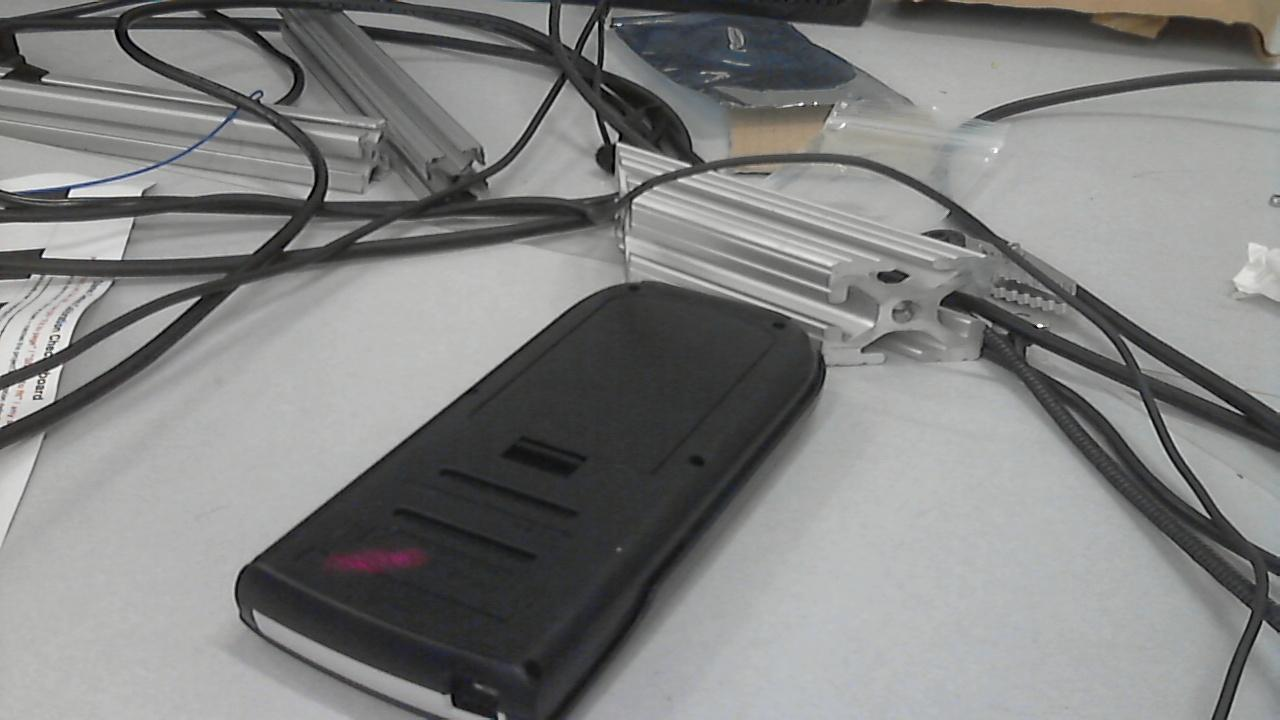Object graphing calculator slide case - Material plastic - Pdfname as1D2765rACT: (293, 527, 456, 583)
